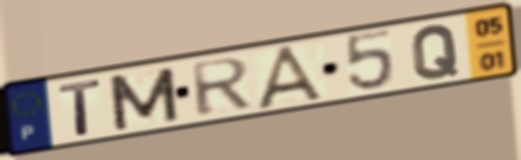5: (343, 26, 398, 95)
A: (253, 42, 332, 111)
M: (104, 64, 183, 134)
Q: (409, 22, 461, 82)
R: (187, 55, 255, 120)
T: (55, 77, 106, 138)
